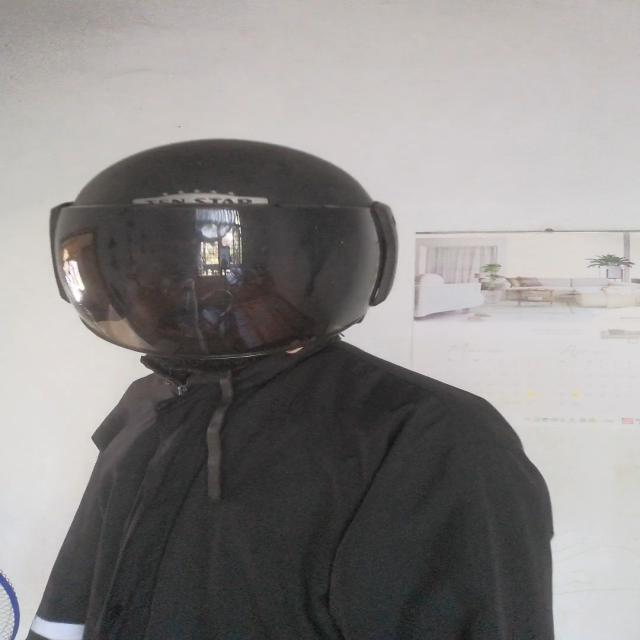Helmet_Wearer: (40, 130, 410, 388)
Jacket_Wearer: (2, 332, 590, 640)
Person: (40, 148, 553, 640)
